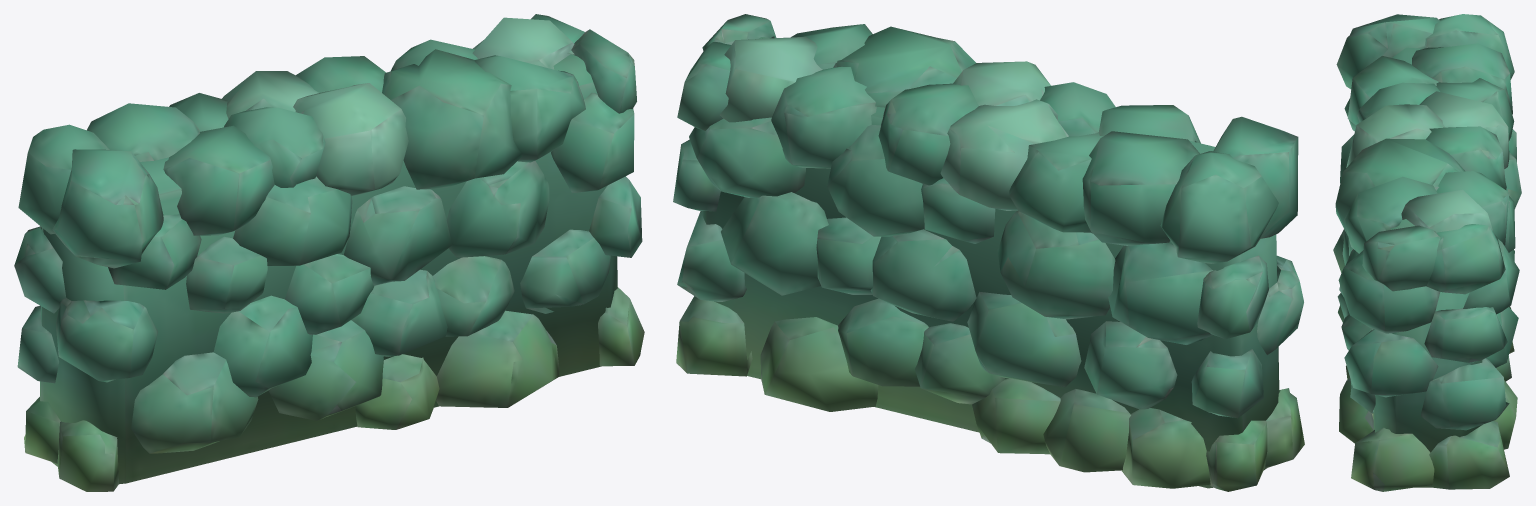
Rendered from hedge.glb.
3 renders of one model, left to right at view 1: azimuth 30°, elevation 25°; view 2: azimuth 150°, elevation 25°; view 3: azimuth 270°, elevation 25°, orthographic. The views are drawn at different scales.
Visible parts, largest first — view 1: hedge_body; view 2: hedge_body; view 3: hedge_body.
Boxes of the visible parts, x1,y1,x2,y2 form: hedge_body: (14,14,644,491); hedge_body: (673,14,1304,491); hedge_body: (1333,14,1521,491).
Size of the model in its own units: 1.95 by 1.05 by 0.6707.
Materials: 1 (1 with a texture image).
